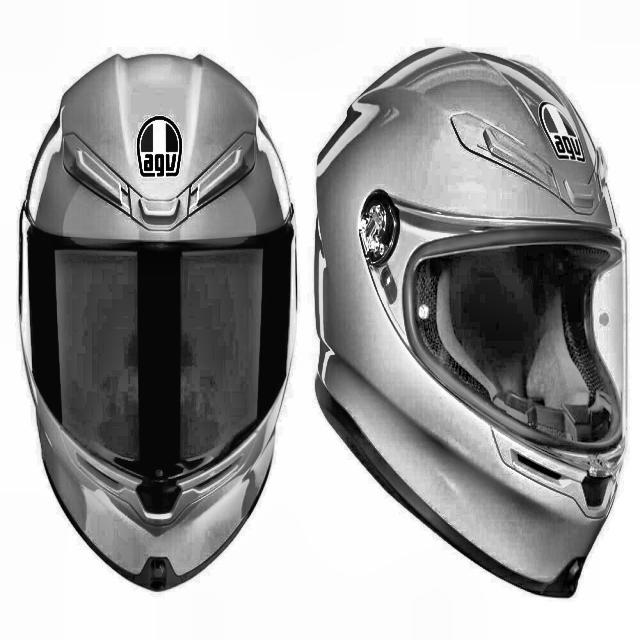Helmet: (309, 39, 631, 601), (16, 53, 301, 604)
